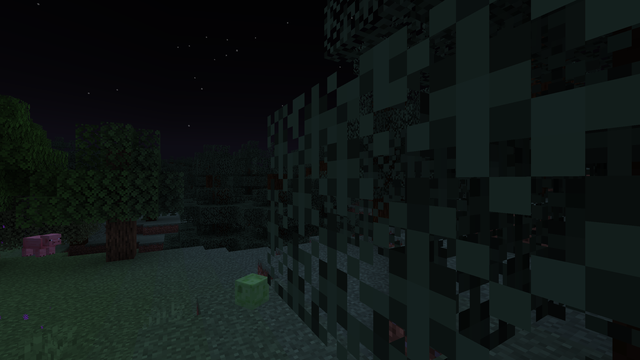cochons: (21, 233, 55, 258)
slimes: (237, 271, 267, 309)
